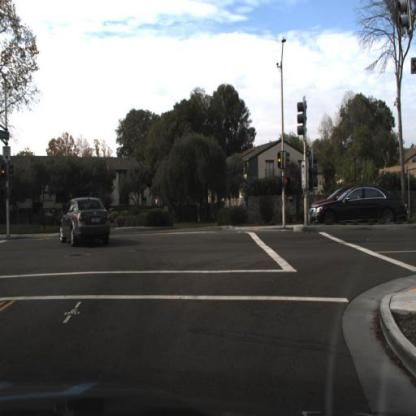car: (305, 172, 413, 245), (58, 194, 115, 256)
trafficLight-Yellow: (278, 151, 285, 170)
